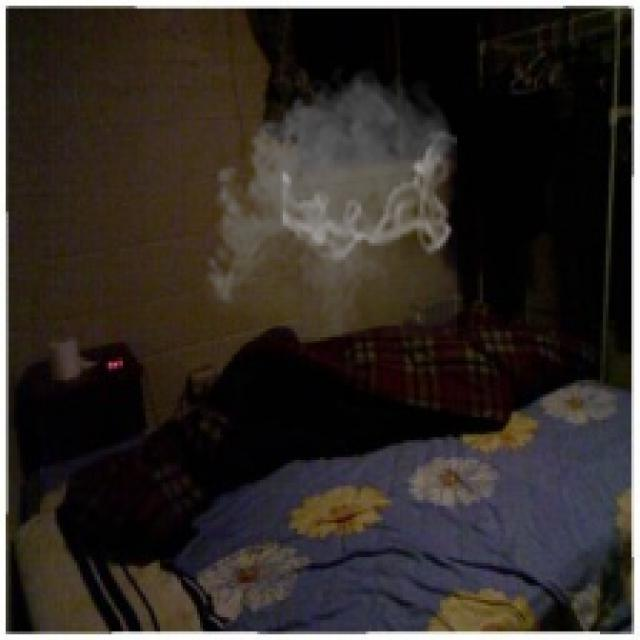Smoke: (200, 57, 460, 337)
